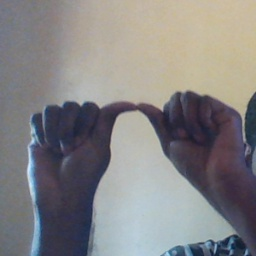A: (28, 87, 244, 200)
